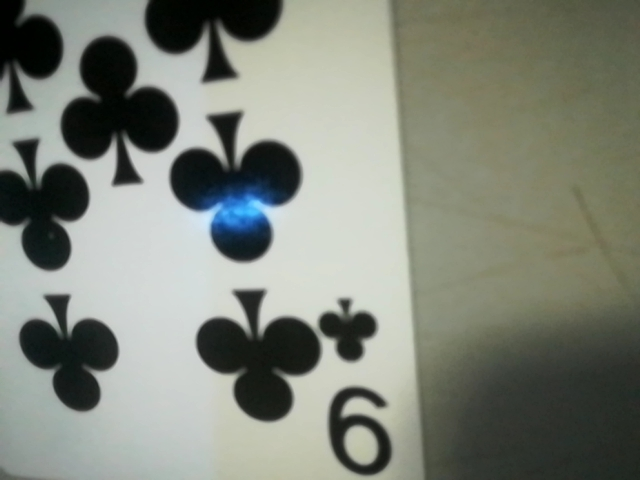mh 9: (309, 283, 414, 480)
